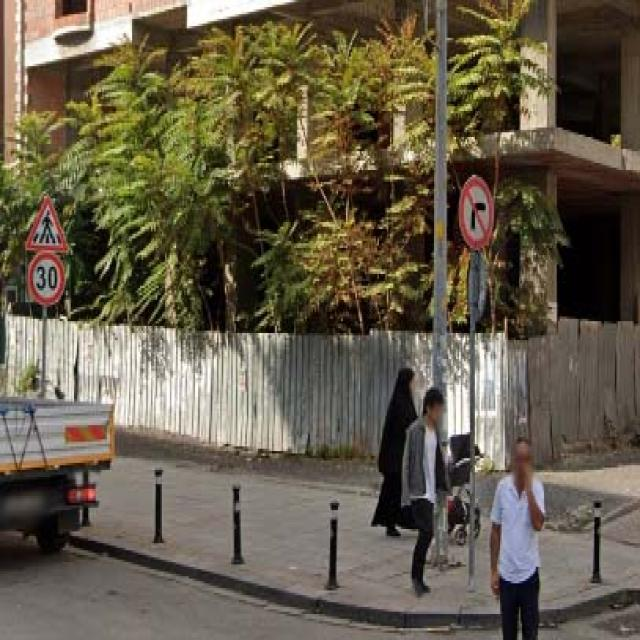30: (29, 252, 64, 304)
sagadonulmez: (459, 175, 494, 248)
